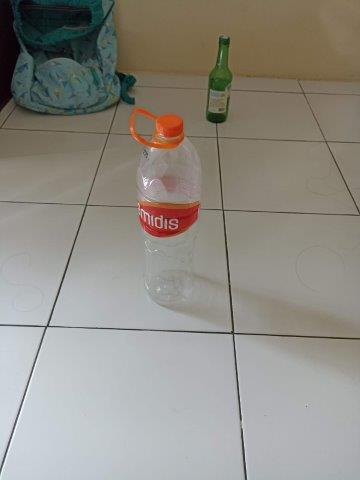botolkaca: (206, 35, 233, 125)
botolplastik: (138, 116, 203, 304)
